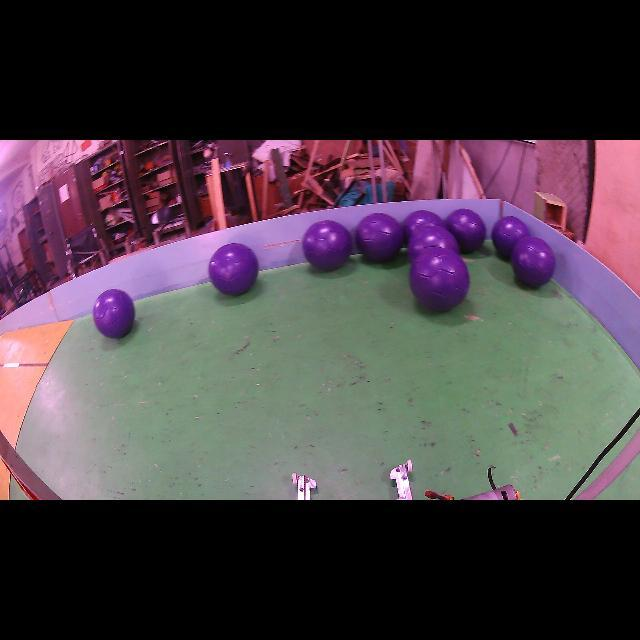P: (410, 248, 470, 311), (209, 242, 259, 295), (302, 220, 352, 270), (355, 212, 404, 261), (511, 236, 555, 288), (92, 289, 135, 338), (408, 225, 460, 261), (445, 209, 486, 252), (491, 216, 530, 258), (402, 210, 445, 242)
